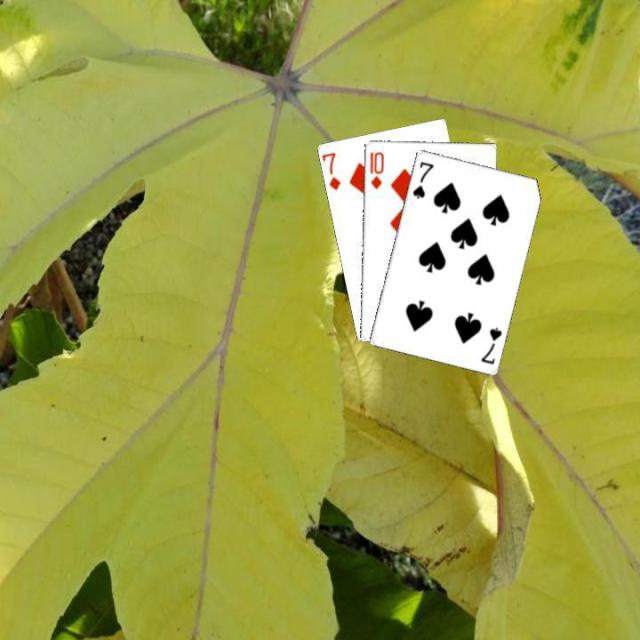10D: (365, 148, 385, 190)
7D: (319, 148, 342, 192)
7S: (408, 157, 436, 200), (477, 323, 503, 366)
